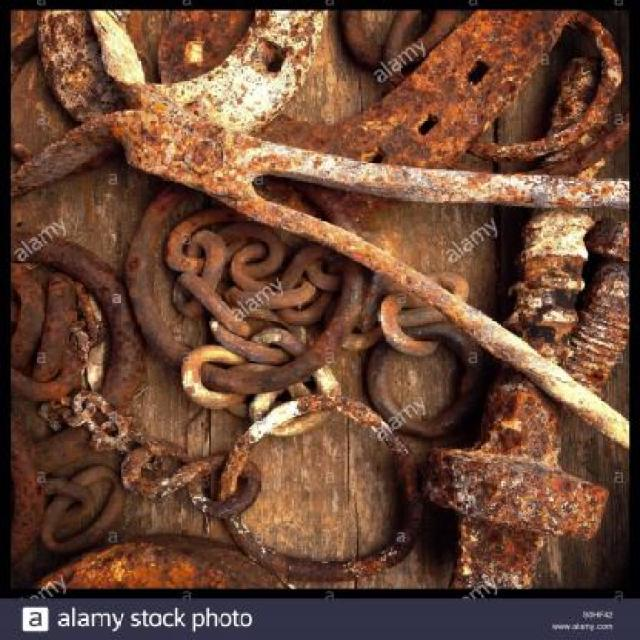corrosion: (11, 12, 628, 585)
